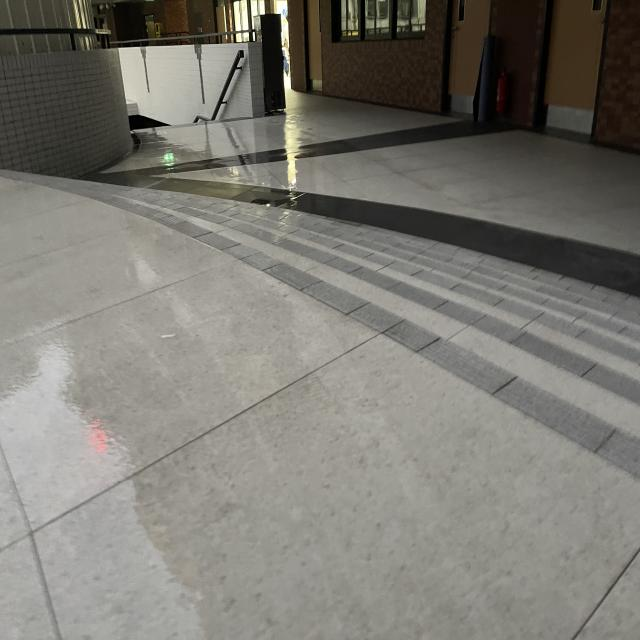Stairs: (4, 157, 640, 527)
